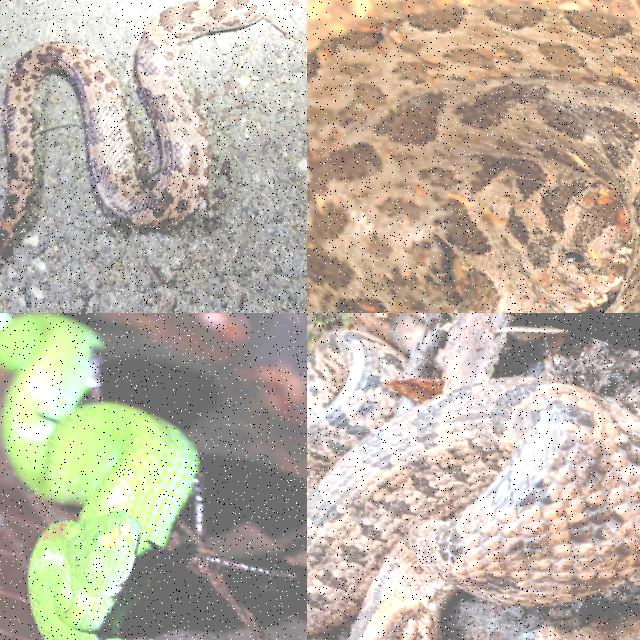Daboia siamensis: (307, 6, 639, 312)
Ovophis monticola: (307, 331, 639, 639), (0, 0, 272, 257)
Trimeresurus macrops: (0, 313, 199, 639)
snake: (307, 331, 639, 639), (307, 6, 639, 312), (0, 0, 272, 257), (0, 313, 199, 639)
